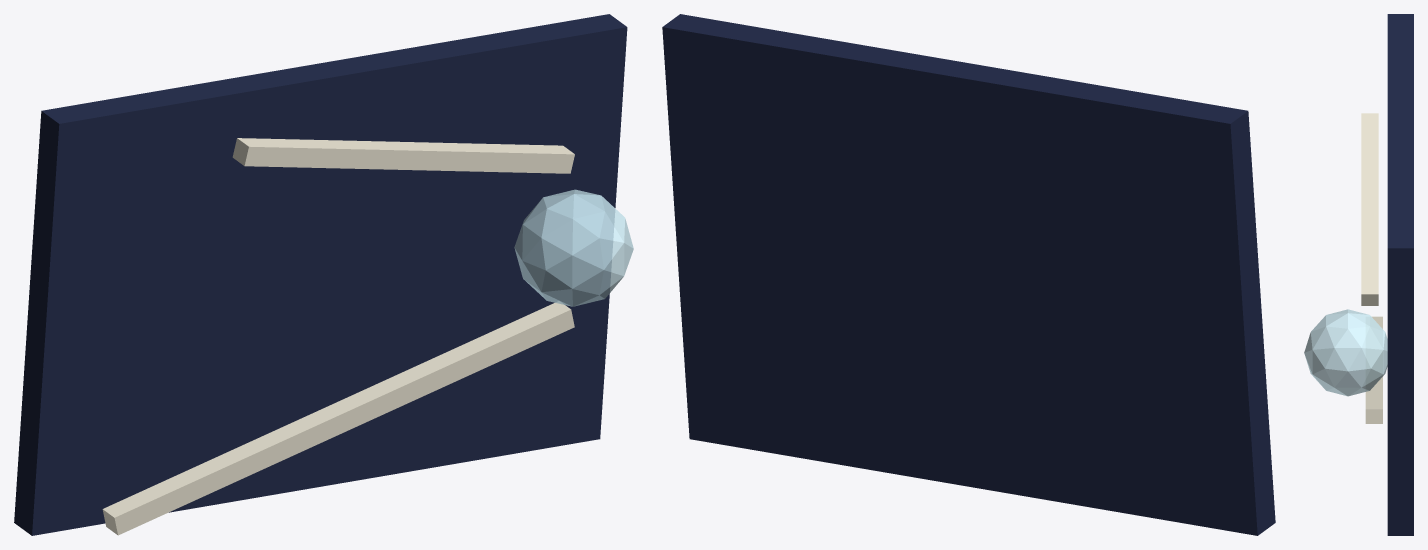
Rendered from 02_world_prop_polish.glb.
The picture shows the model from 3 angles, left to right: view 1: azimuth 30°, elevation 25°; view 2: azimuth 150°, elevation 25°; view 3: azimuth 270°, elevation 25°; orthographic projection. The views are drawn at different scales.
Visible parts, largest first — view 1: object_overlay_plate, edge_wear_a, glow_socket, edge_wear_b; view 2: object_overlay_plate; view 3: object_overlay_plate, glow_socket, edge_wear_b, edge_wear_a.
Boxes of the visible parts, left/top/right/bottom form: object_overlay_plate: left=14, top=14, right=627, bottom=535; edge_wear_a: left=102, top=302, right=574, bottom=535; glow_socket: left=514, top=189, right=633, bottom=306; edge_wear_b: left=232, top=138, right=574, bottom=173; object_overlay_plate: left=662, top=14, right=1275, bottom=535; object_overlay_plate: left=1387, top=14, right=1413, bottom=535; glow_socket: left=1304, top=309, right=1387, bottom=396; edge_wear_b: left=1361, top=113, right=1378, bottom=305; edge_wear_a: left=1365, top=316, right=1382, bottom=423.
Size of the model in its own units: 1.15 by 0.8253 by 0.25.
